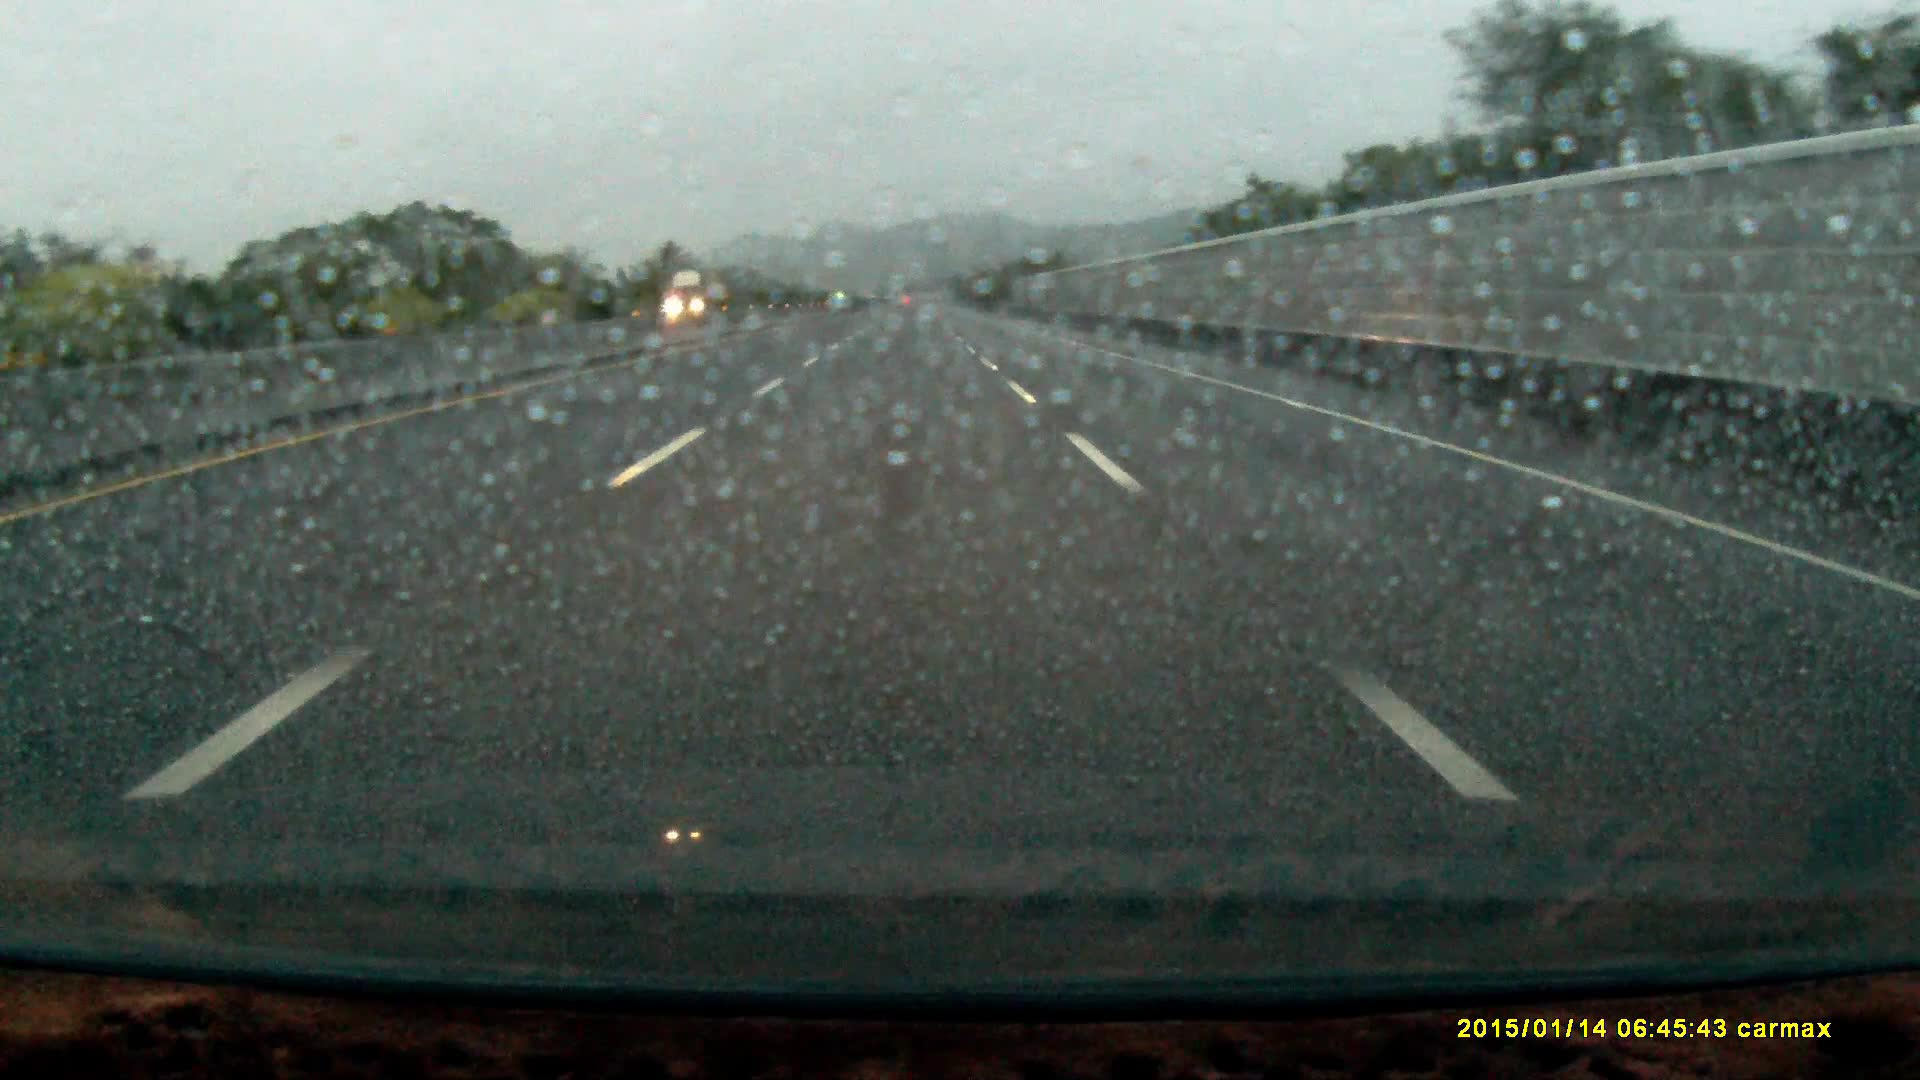vehicle: (665, 270, 725, 318)
